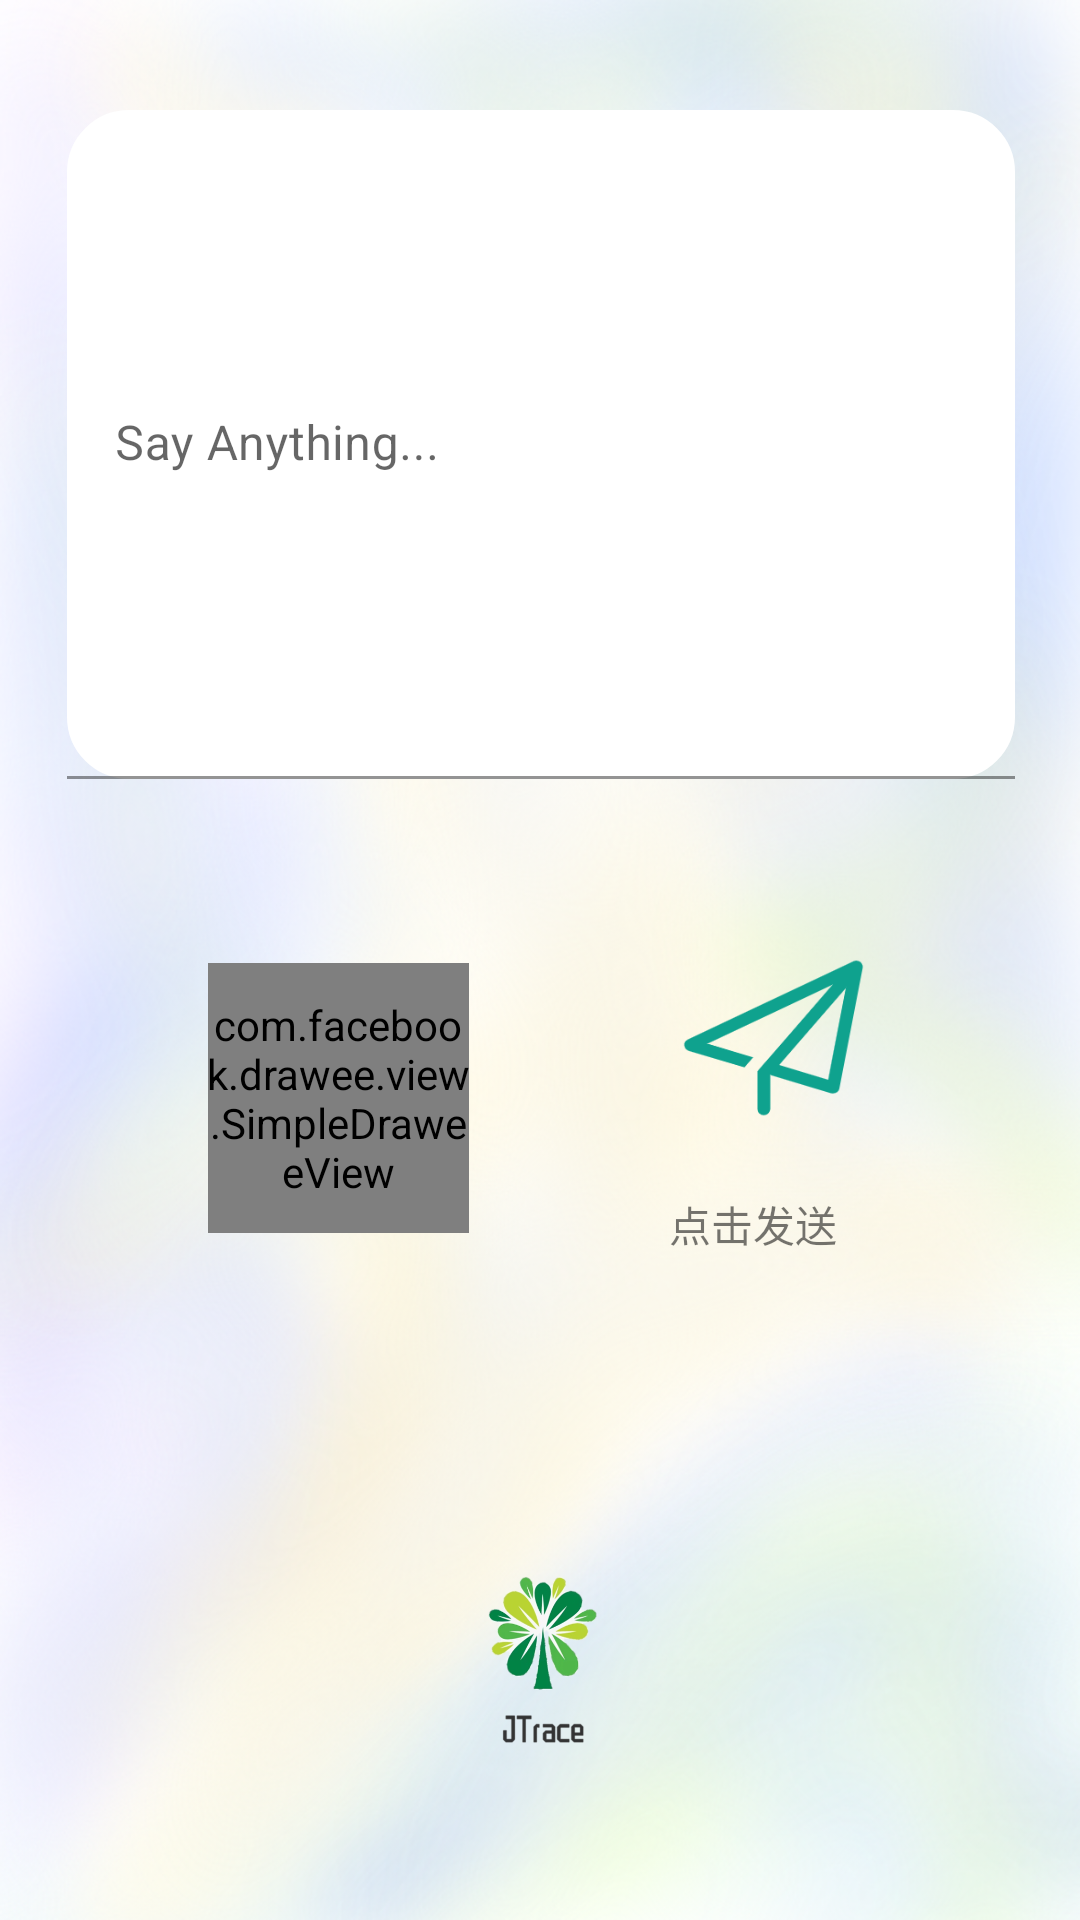

Screen size 1080×1920. Icon name, then its center in pixels as (x,y):
publish: (774,1038)
